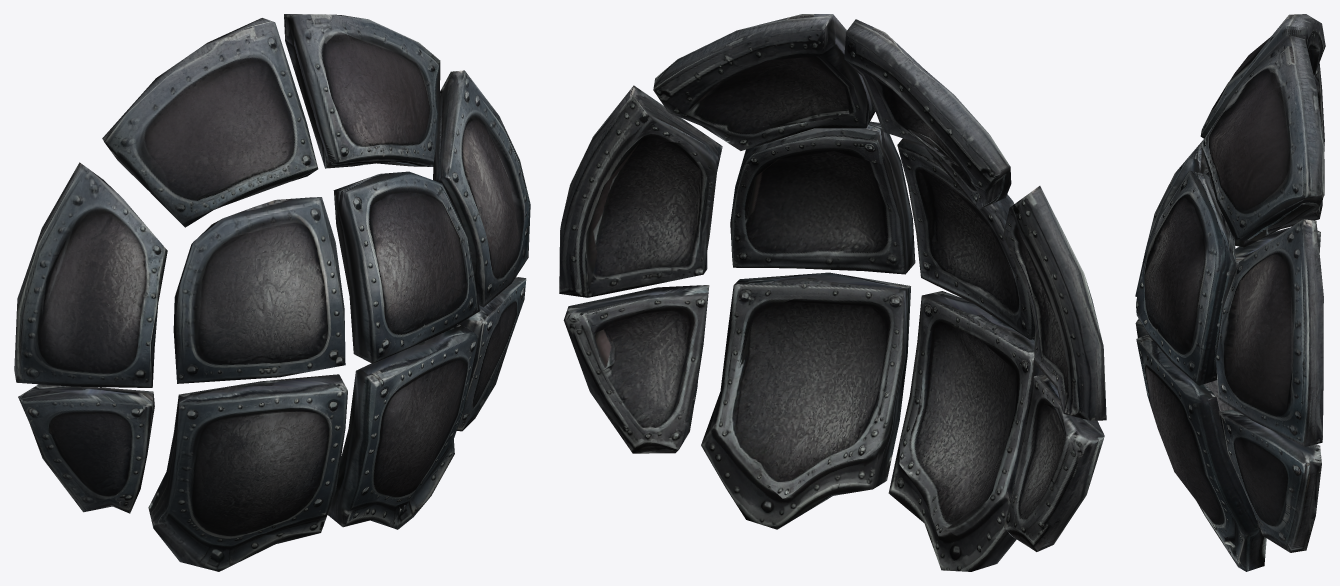
Rendered from Shell1.fbx.
3 views of the same model, side by side, from view 1: azimuth 30°, elevation 25°; view 2: azimuth 150°, elevation 25°; view 3: azimuth 270°, elevation 25° (orthographic). The views are drawn at different scales.
Visible parts, largest first — view 1: Shell8, Shell1, Shell4, Shell3, Shell5, Shell9, Shell2, Shell6, Shell7, Shell10; view 2: Shell9, Shell8, Shell6, Shell5, Shell2, Shell10, Shell3, Shell4, Shell1, Shell7; view 3: Shell6, Shell2, Shell5, Shell9, Shell10, Shell1, Shell4, Shell3, Shell7, Shell8.
Boxes of the visible parts, x1,y1,x2,y2 form: Shell8: [148, 374, 347, 571]; Shell1: [102, 18, 318, 227]; Shell4: [173, 197, 345, 383]; Shell3: [14, 162, 167, 387]; Shell5: [333, 171, 479, 363]; Shell9: [327, 324, 478, 529]; Shell2: [284, 14, 440, 168]; Shell6: [433, 70, 530, 307]; Shell7: [18, 384, 154, 513]; Shell10: [456, 276, 526, 431]; Shell9: [701, 272, 910, 529]; Shell8: [888, 291, 1044, 571]; Shell6: [559, 85, 722, 297]; Shell5: [730, 121, 915, 274]; Shell2: [653, 14, 875, 150]; Shell10: [563, 285, 709, 453]; Shell3: [1003, 186, 1106, 420]; Shell4: [897, 138, 1034, 339]; Shell1: [844, 19, 1011, 209]; Shell7: [1004, 374, 1104, 551]; Shell6: [1216, 219, 1323, 446]; Shell2: [1201, 34, 1324, 240]; Shell5: [1136, 170, 1236, 385]; Shell9: [1136, 334, 1266, 571]; Shell10: [1218, 409, 1321, 552]; Shell1: [1200, 14, 1325, 138]; Shell4: [1135, 139, 1209, 296]; Shell3: [1235, 63, 1324, 247]; Shell7: [1235, 227, 1320, 270]; Shell8: [1135, 318, 1233, 410].
Size of the model in its own units: 95.11 by 91.06 by 31.71.
1 material, 1 textured.
